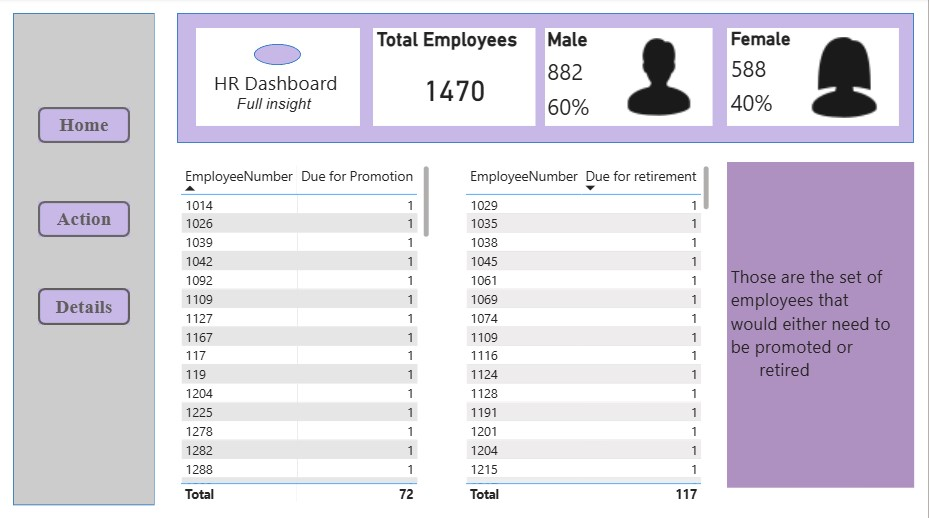

The page's visual inventory and layout, read from the dashboard file:
{"tool":"powerbi","page":{"name":"Action","canvas":[1282,734],"ordinal":1},"visuals":[{"type":"shape","box":[246.4,20.6,1015.7,178.9],"z":0},{"type":"tableEx","fields":{"Values":["in.EmployeeNumber","in.promotion1"]},"box":[246.2,226.1,352.8,473.8],"z":1000},{"type":"tableEx","fields":{"Values":["in.EmployeeNumber","in.retreachment"]},"box":[639.4,226.1,345.6,473.8],"z":2000},{"type":"card","title":"Total Employees","fields":{"Values":["in.Total employees"]},"box":[517.5,41.3,224.3,134.9],"z":3000},{"type":"multiRowCard","title":"Male","fields":{"Values":["in.Male","in.Male %"]},"box":[754.2,41.3,231.2,134.9],"z":4000},{"type":"multiRowCard","title":"Female","fields":{"Values":["in.Female","in.Female %"]},"box":[1004.7,41.3,236.7,134.9],"z":5000},{"type":"textbox","box":[272.5,41.3,225.7,134.9],"z":6000},{"type":"textbox","box":[1005.1,226.1,257.8,449.3],"z":7000},{"type":"shape","box":[20.6,20.6,195.4,678.5],"z":8000},{"type":"actionButton","box":[55.1,150.3,126.8,49.6],"z":9000},{"type":"actionButton","box":[55.1,279.8,126.8,49.6],"z":10000},{"type":"actionButton","box":[55.1,399.8,126.8,51],"z":11000},{"type":"shape","box":[352.3,63.3,64.7,28.9],"z":12000},{"type":"image","box":[854.7,45.4,117,126.6],"z":13000},{"type":"image","box":[1108,44,121.1,130.8],"z":14000}]}

Visuals, with their boxes in screenshot pixels (x1, y1, x2, y2), scaled from the page's 1282x734 canvas onto the 929x518 screenshot:
shape: box=[179, 15, 915, 141]
tableEx - in.EmployeeNumber x in.promotion1: box=[178, 160, 434, 494]
tableEx - in.EmployeeNumber x in.retreachment: box=[463, 160, 714, 494]
"Total Employees" card: box=[375, 29, 538, 124]
"Male" multiRowCard: box=[547, 29, 714, 124]
"Female" multiRowCard: box=[728, 29, 900, 124]
textbox: box=[197, 29, 361, 124]
textbox: box=[728, 160, 915, 477]
shape: box=[15, 15, 157, 493]
actionButton: box=[40, 106, 132, 141]
actionButton: box=[40, 197, 132, 232]
actionButton: box=[40, 282, 132, 318]
shape: box=[255, 45, 302, 65]
image: box=[619, 32, 704, 121]
image: box=[803, 31, 891, 123]
